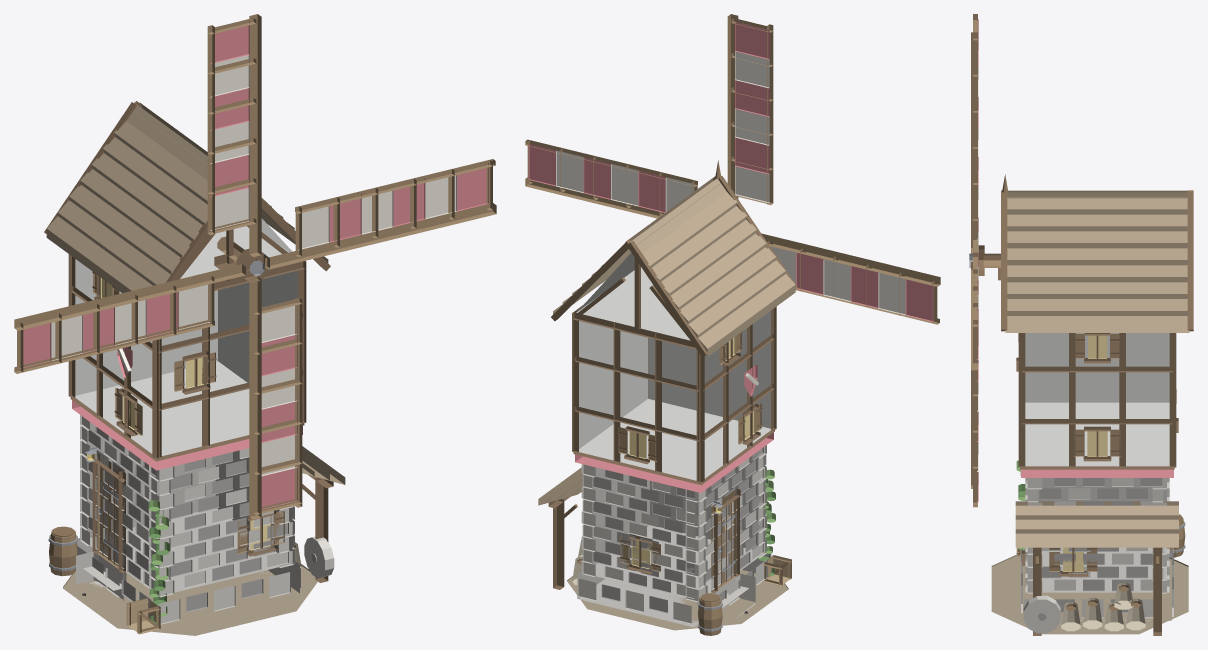
The model's file is mill_4.glb.
The picture shows the model from 3 angles, left to right: view 1: azimuth 30°, elevation 25°; view 2: azimuth 150°, elevation 25°; view 3: azimuth 270°, elevation 25°; orthographic projection. The views are drawn at different scales.
Parts seen in each view (by area): view 1: Upper, Ground, Walls, Sails.Spar#4, Sails.Spar#2, Sails.Spar, Sails.Spar#3, Roof, Roof#3, Roof#4, Roof#2, Roof#5 (+42 smaller); view 2: Upper, Walls, Gable, Ground, Roof, Roof#2, Base, Roof#3, Roof#4, Sails.Spar, Roof#5, Roof#6 (+37 smaller); view 3: Upper, Ground, Roof#9, Roof#15, Shed.Roof, Walls, Roof#10, Roof#11, Roof#12, Roof#13, Roof#14, Shed.Roof#2 (+28 smaller).
Boxes of the visible parts, box(x1,y1,x2,y2) form: Upper: box(75, 259, 298, 455); Ground: box(63, 564, 319, 635); Walls: box(87, 422, 292, 592); Sails.Spar#4: box(249, 276, 261, 519); Sails.Spar#2: box(249, 14, 261, 256); Sails.Spar: box(14, 264, 245, 330); Sails.Spar#3: box(265, 203, 496, 269); Roof: box(46, 216, 152, 292); Roof#3: box(69, 185, 180, 274); Roof#4: box(80, 169, 191, 257); Roof#2: box(58, 200, 170, 285); Roof#5: box(91, 153, 202, 241); Upper: box(579, 311, 770, 480); Walls: box(584, 455, 764, 597); Gable: box(576, 253, 690, 340); Ground: box(567, 570, 788, 630); Roof: box(698, 274, 795, 356); Roof#2: box(688, 260, 785, 337); Base: box(577, 553, 771, 627); Roof#3: box(680, 247, 776, 323); Roof#4: box(671, 233, 766, 309); Sails.Spar: box(761, 233, 940, 286); Roof#5: box(661, 219, 756, 295); Roof#6: box(652, 206, 747, 281); Upper: box(1025, 333, 1169, 466); Ground: box(991, 554, 1188, 634); Roof#9: box(1005, 311, 1189, 332); Roof#15: box(1007, 209, 1187, 226); Shed.Roof: box(1015, 529, 1178, 547); Walls: box(1028, 478, 1166, 592); Roof#10: box(1007, 294, 1187, 310); Roof#11: box(1007, 277, 1187, 293); Roof#12: box(1007, 260, 1187, 276); Roof#13: box(1007, 243, 1187, 259); Roof#14: box(1007, 226, 1187, 242); Shed.Roof#2: box(1015, 515, 1178, 529).
Bounding box in the file's own units: 10.4 × 12.75 × 4.68.
